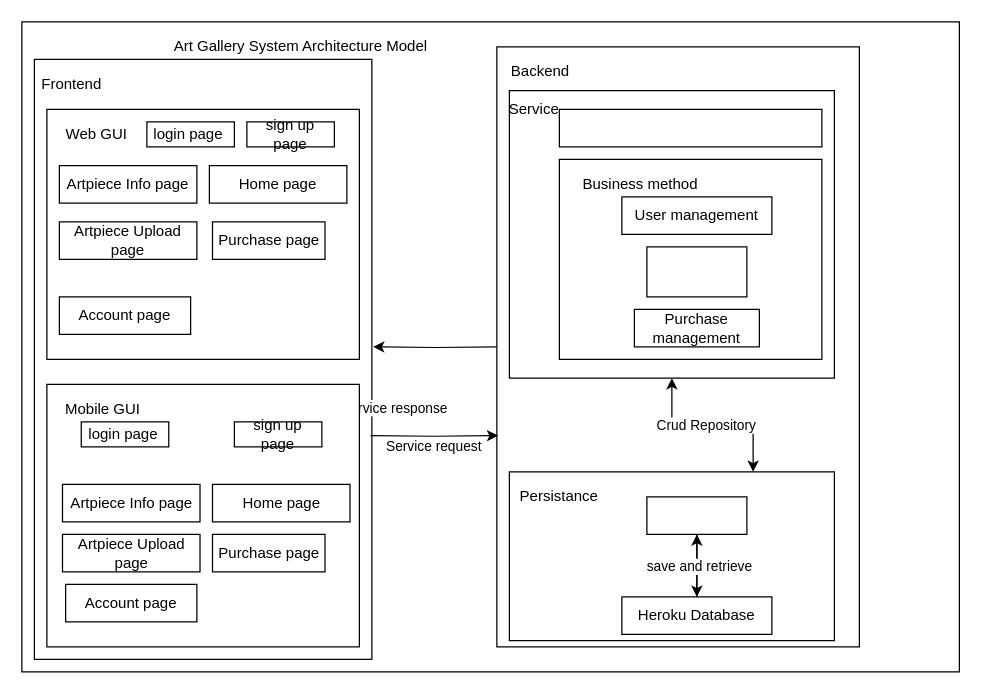
Some shapes in this 981 by 694 pixel diagram are drawn without their labels. Each missing label, with the box of its shape:
Artpiece management: (646, 246, 747, 297)
Model class: (646, 496, 747, 534)
Rest Controller: (558, 108, 822, 147)
